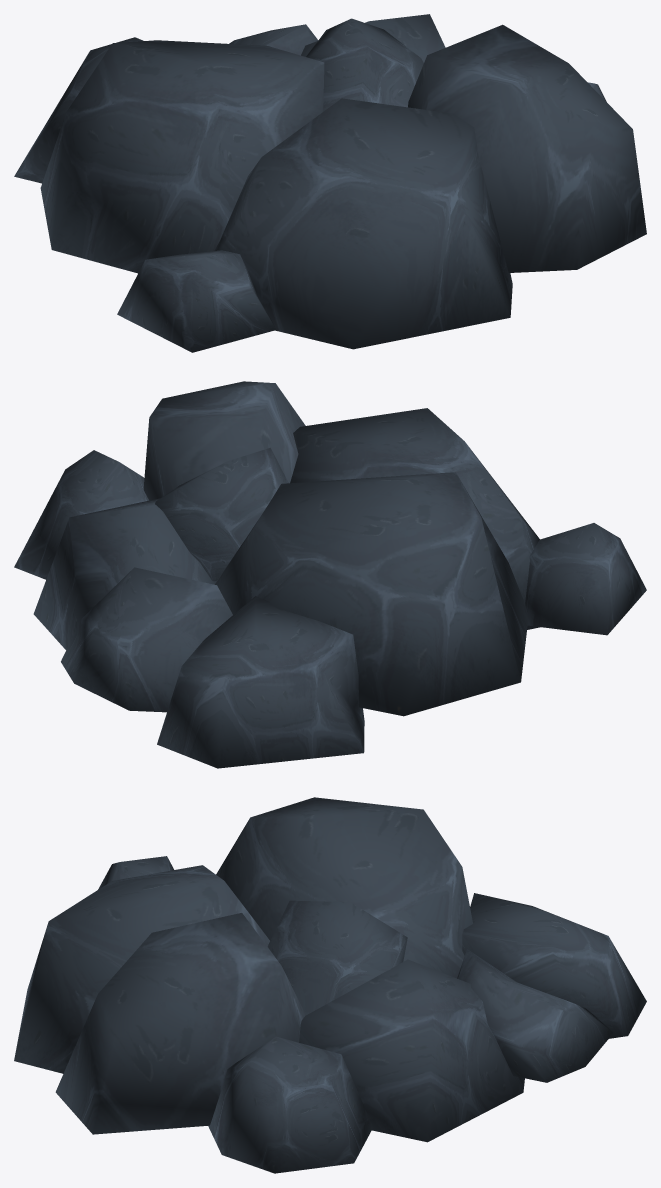
Rendered from SM_PROP_stonepile_battle_05.fbx.
3 renders of one model, top to bottom at view 1: azimuth 30°, elevation 25°; view 2: azimuth 150°, elevation 25°; view 3: azimuth 270°, elevation 25°, orthographic. The views are drawn at different scales.
Parts seen in each view (by area): view 1: SM_PROP_stonepile_battle_05; view 2: SM_PROP_stonepile_battle_05; view 3: SM_PROP_stonepile_battle_05.
Part boxes in pixels (bbox=[...]): SM_PROP_stonepile_battle_05: bbox=[14, 14, 646, 352]; SM_PROP_stonepile_battle_05: bbox=[14, 381, 646, 768]; SM_PROP_stonepile_battle_05: bbox=[14, 797, 646, 1173].
Size of the model in its own units: 156 by 48 by 158.
